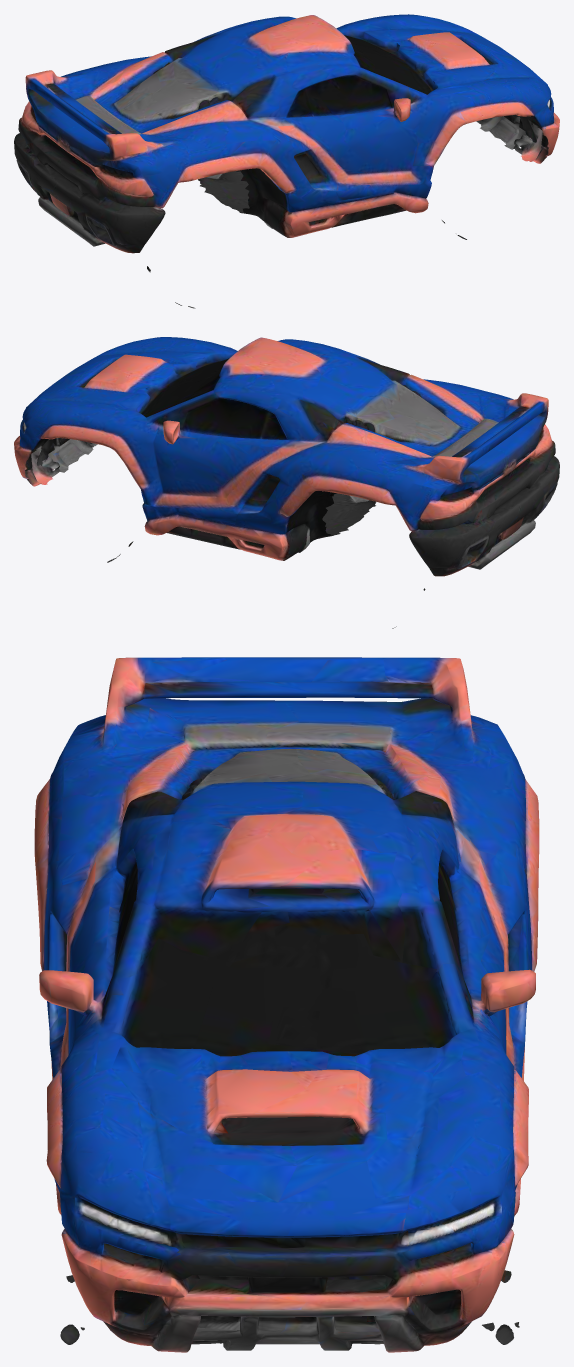
The model's file is vetor-BnBB1JQE.glb.
3 views of the same model, one above another, from view 1: azimuth 30°, elevation 25°; view 2: azimuth 150°, elevation 25°; view 3: azimuth 270°, elevation 25° (orthographic). The views are drawn at different scales.
Visible parts, largest first — view 1: carroceria; view 2: carroceria; view 3: carroceria.
Boxes of the visible parts, x1,y1,x2,y2 form: carroceria: (14,14,559,308); carroceria: (14,337,559,628); carroceria: (34,657,539,1352).
Bounding box in the file's own units: 3.94 × 1.6 × 1.83.
Materials: 2 (2 with a texture image).
